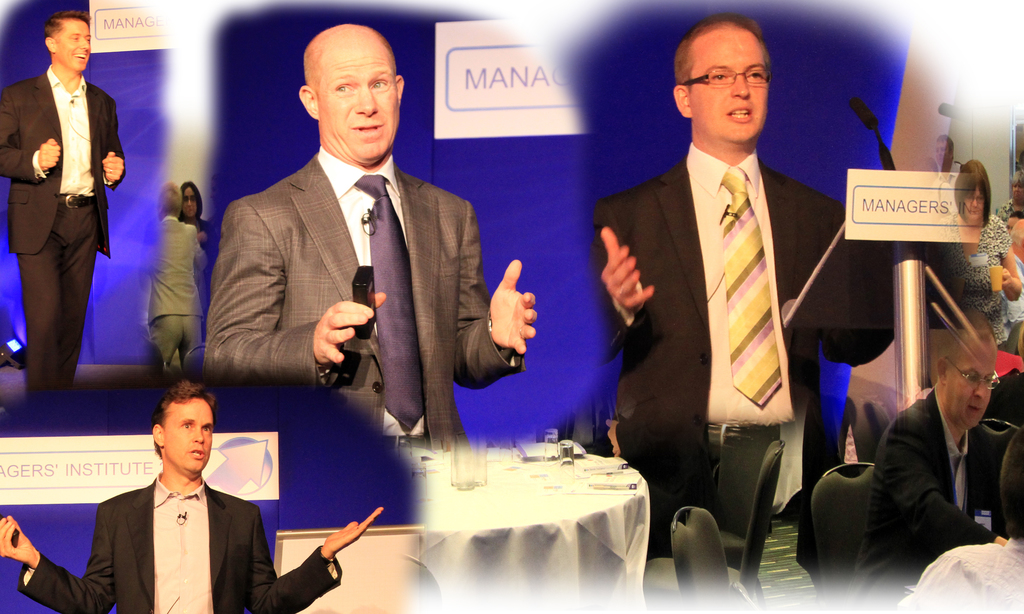Person: (896, 429, 1024, 614), (929, 158, 1023, 347), (140, 181, 202, 369), (998, 217, 1024, 326), (177, 181, 209, 247), (936, 134, 961, 211), (995, 169, 1024, 222)
